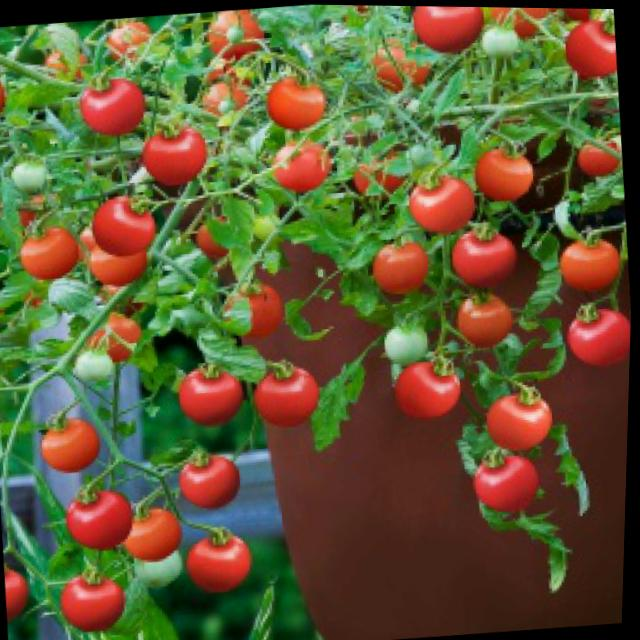tomato: (185, 517, 261, 599), (391, 349, 471, 424), (66, 479, 143, 556), (254, 355, 328, 431), (138, 123, 215, 195), (405, 168, 484, 238), (451, 224, 527, 296), (486, 385, 561, 457), (176, 361, 250, 433), (89, 192, 164, 263), (59, 572, 136, 639), (563, 296, 633, 369), (75, 75, 151, 142), (177, 444, 248, 515), (472, 444, 546, 512), (37, 415, 118, 477), (262, 66, 334, 135), (556, 234, 626, 303), (122, 503, 191, 569), (452, 285, 521, 351), (407, 5, 490, 58), (369, 239, 435, 305), (19, 222, 87, 286), (473, 143, 542, 204), (576, 137, 622, 178)
